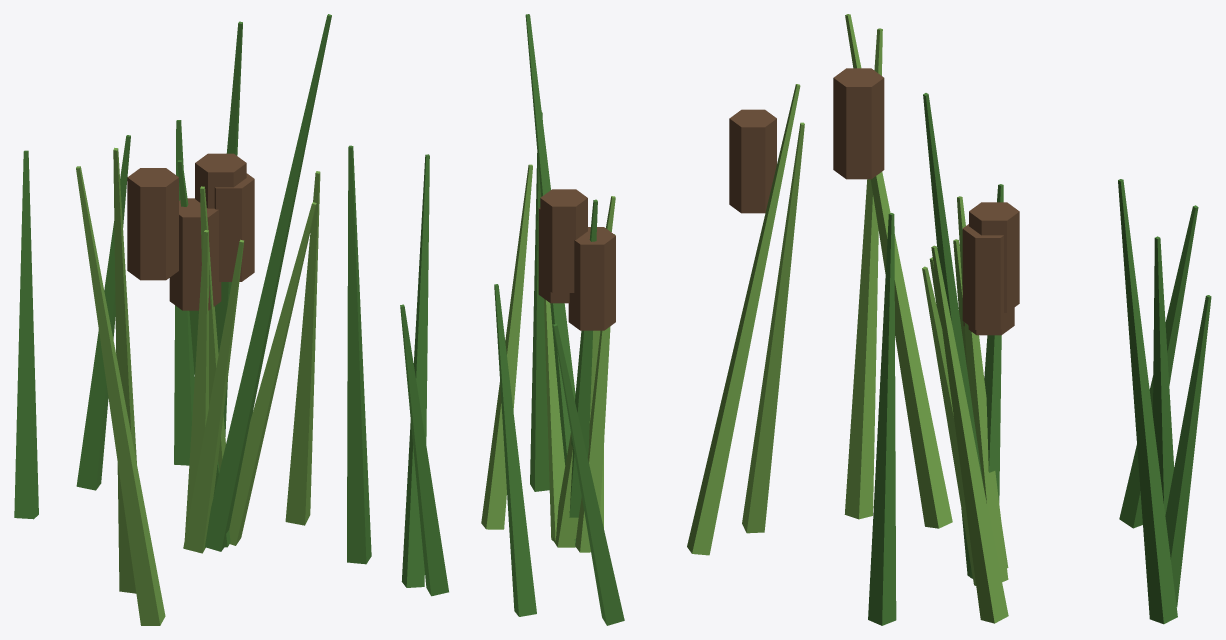
The model's file is Reeds.fbx.
3 renders of one model, left to right at view 1: azimuth 30°, elevation 25°; view 2: azimuth 150°, elevation 25°; view 3: azimuth 270°, elevation 25°, orthographic. The views are drawn at different scales.
Parts seen in each view (by area): view 1: Reeds; view 2: Reeds; view 3: Reeds.
Part boxes in pixels (<box>): Reeds: <box>14,14,371,625</box>; Reeds: <box>400,14,804,625</box>; Reeds: <box>833,14,1211,625</box>.
Size of the model in its own units: 0.5981 by 1.02 by 0.669.
